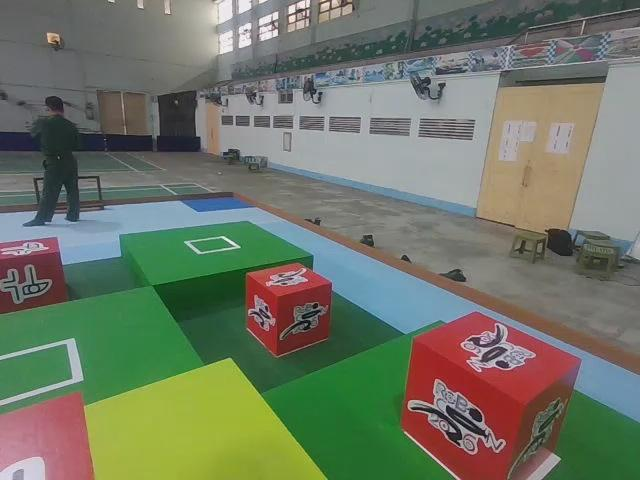R1: (399, 306, 585, 480), (243, 257, 335, 360)
R2 Real: (0, 233, 72, 317)
